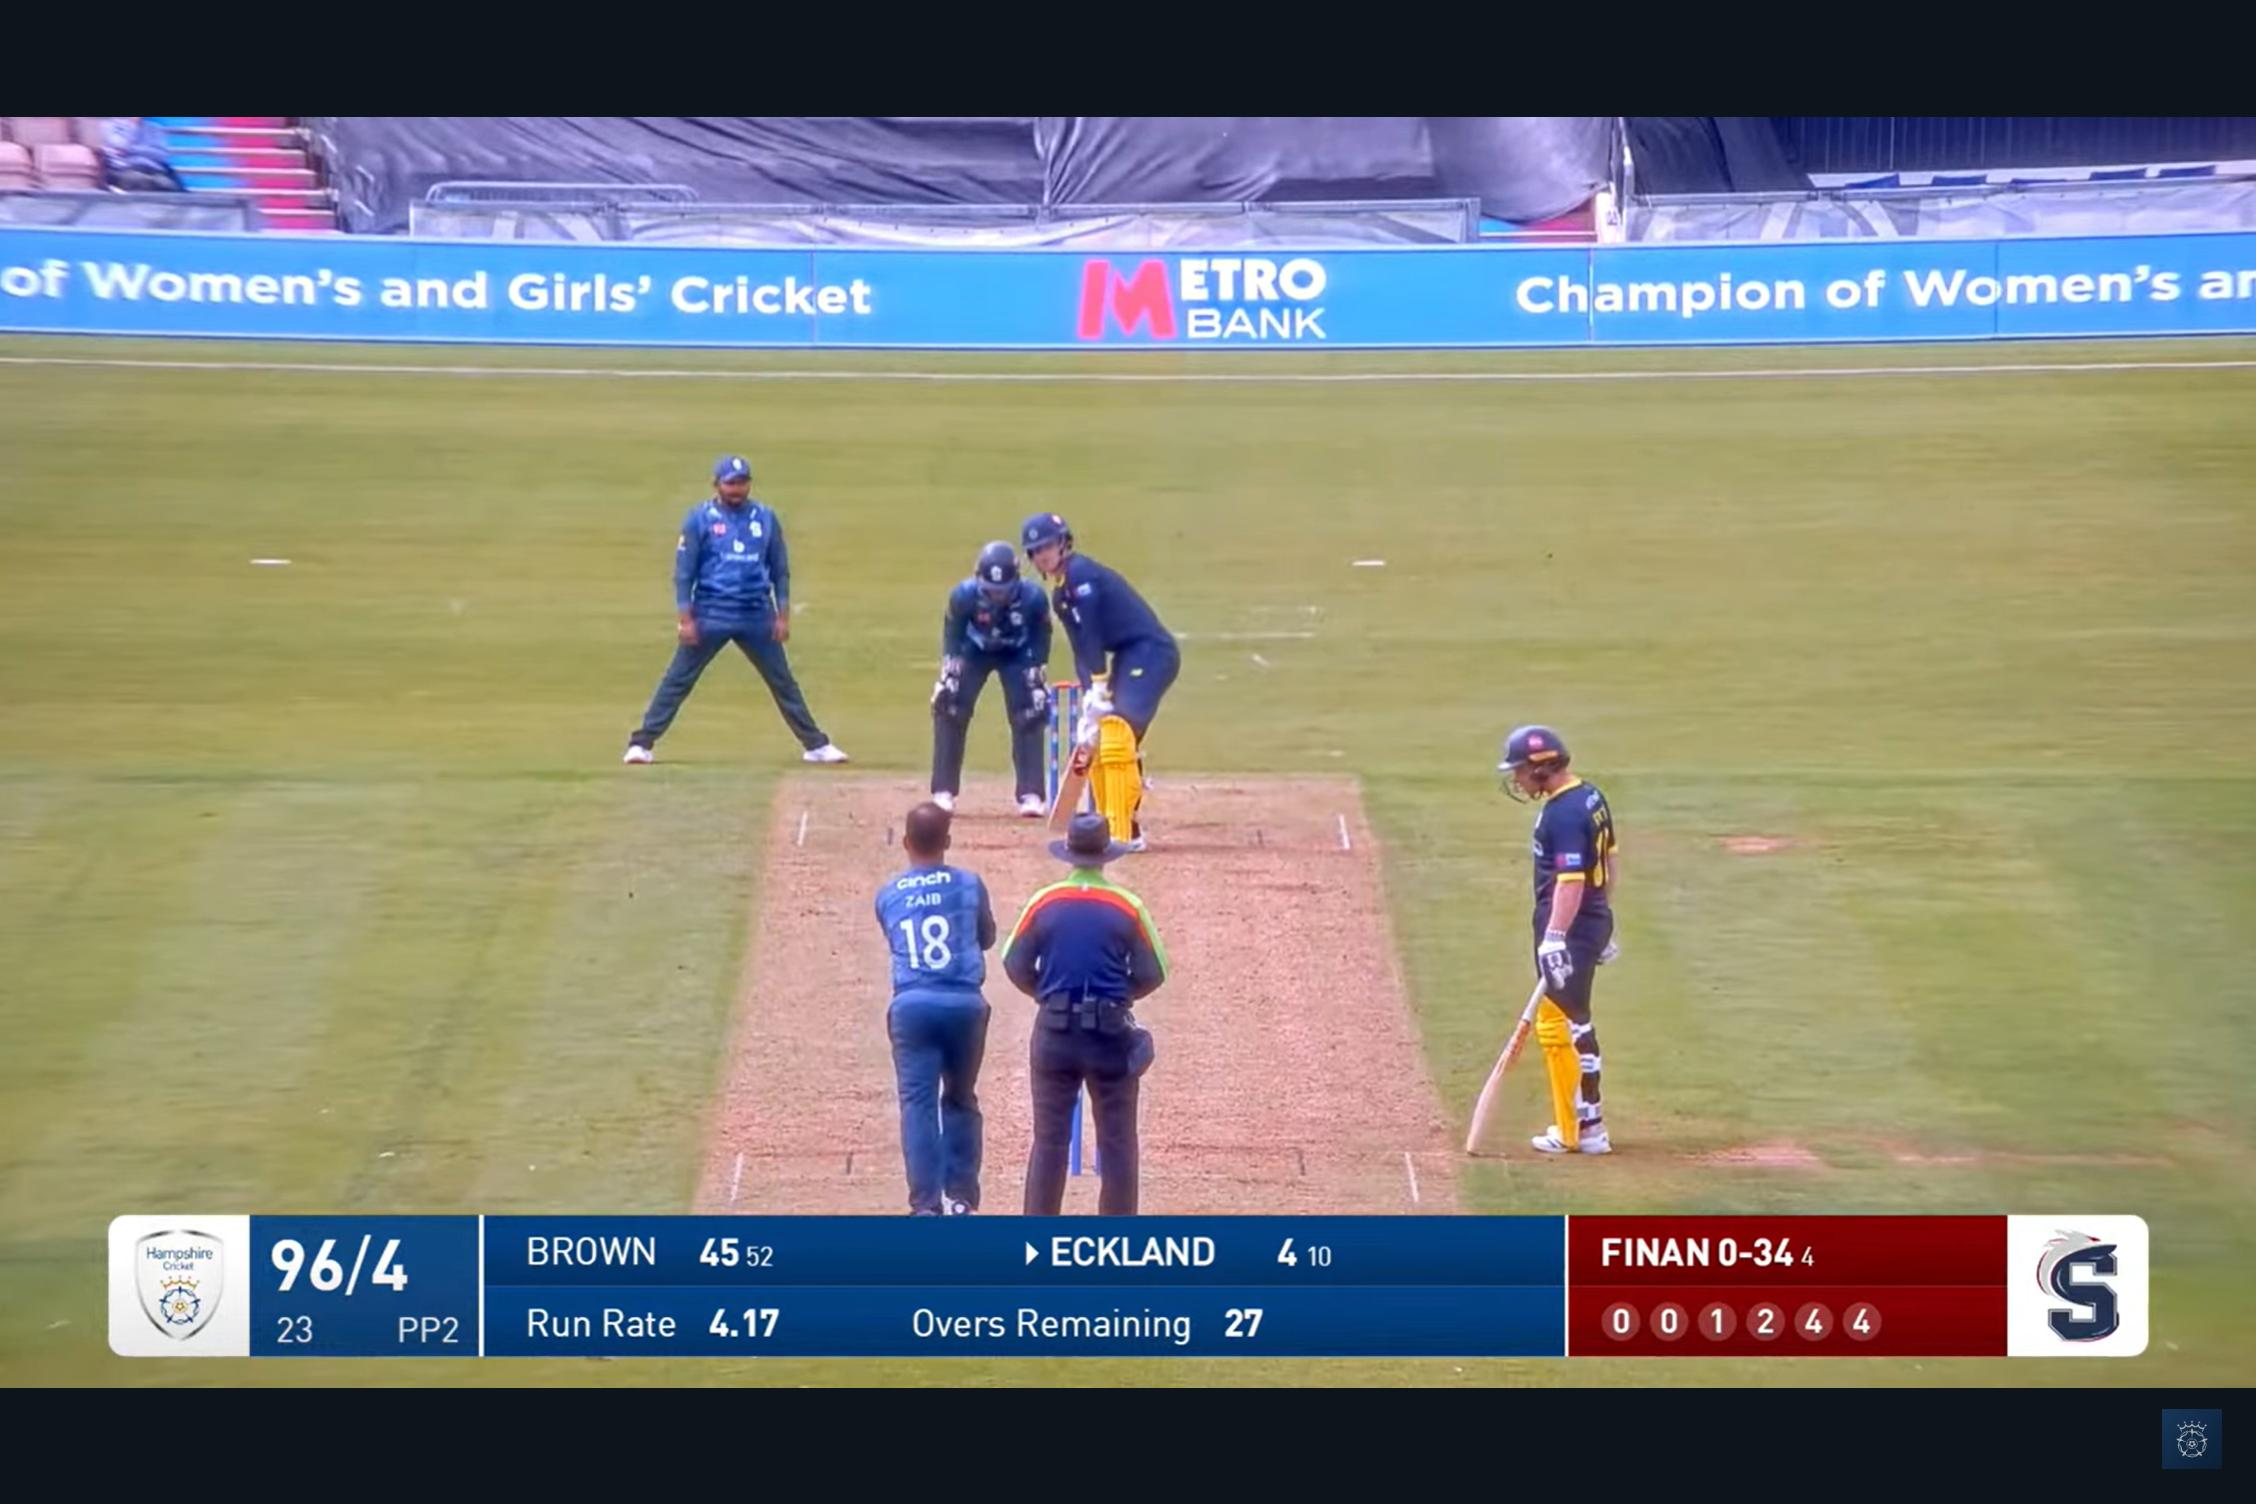batsman: (1005, 495, 1192, 854)
bowler running in: (858, 797, 1009, 1214)
non striker: (1454, 703, 1642, 1173)
